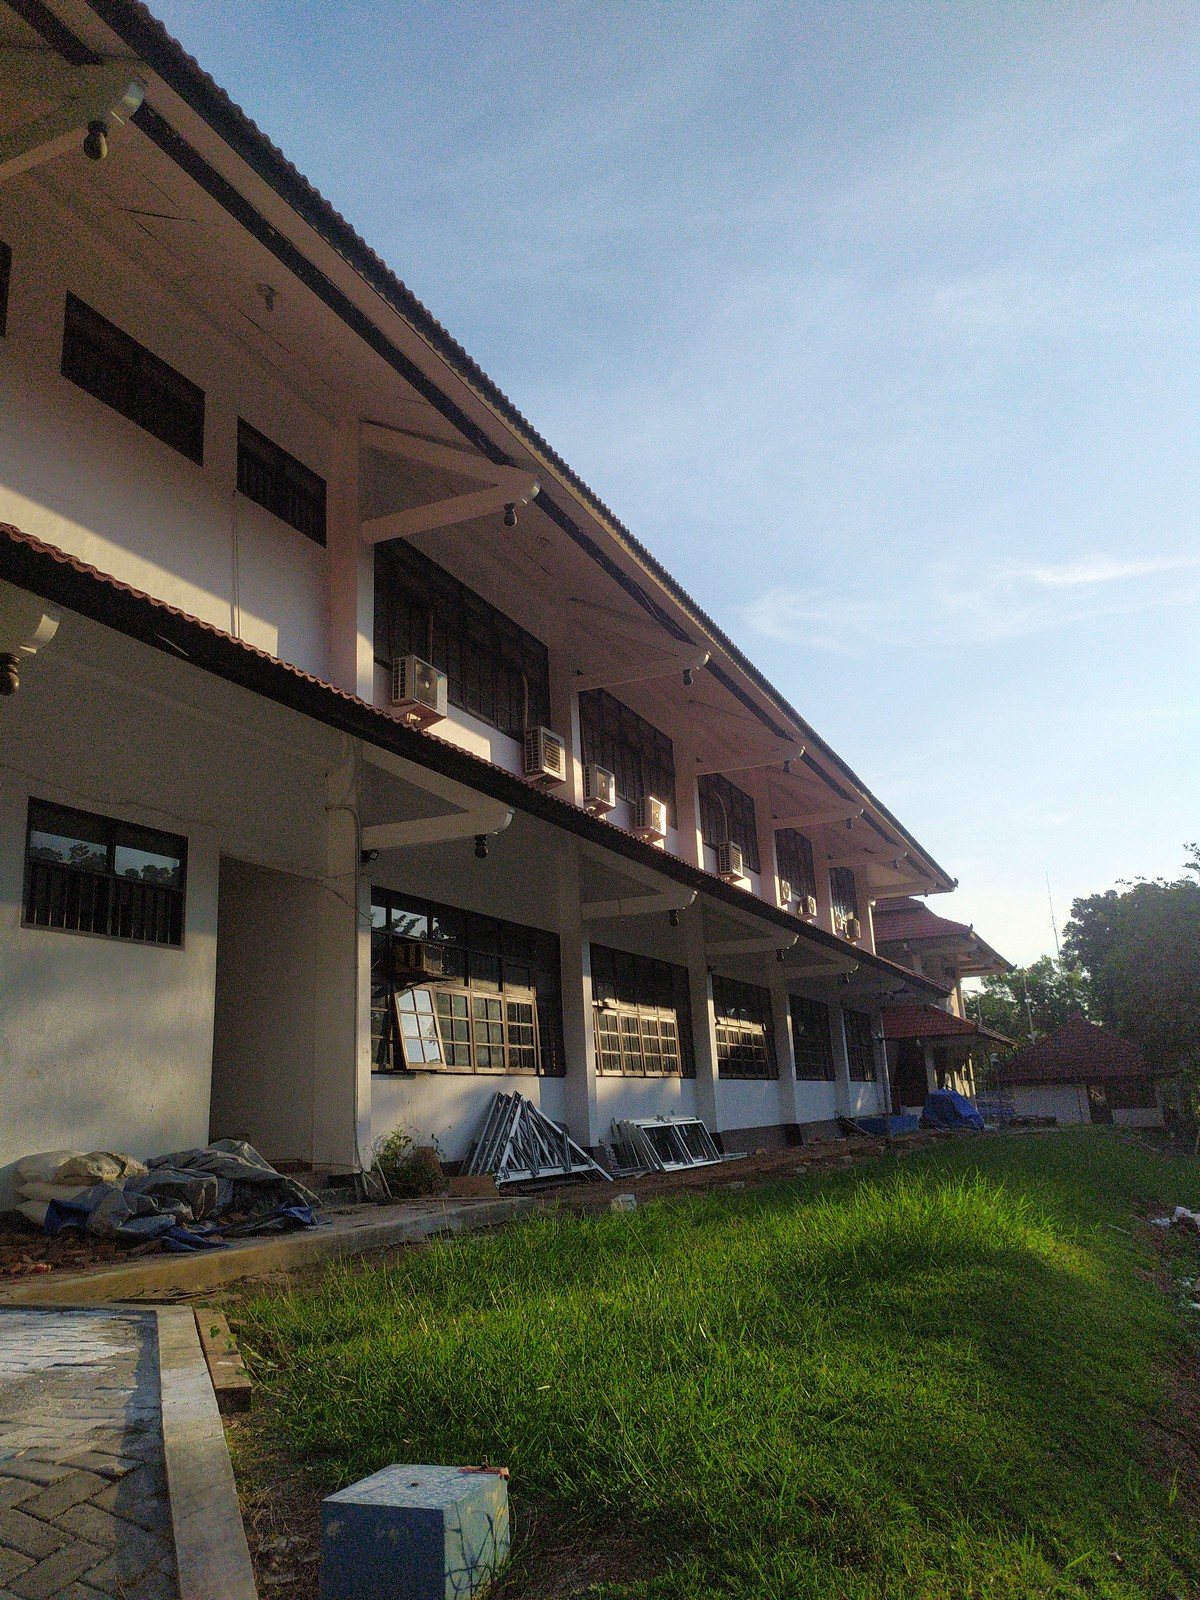concrete beam: (349, 486, 494, 551), (350, 810, 473, 863), (565, 658, 668, 700), (575, 891, 666, 927)
concrete column: (310, 762, 382, 1177), (320, 414, 384, 711), (551, 848, 608, 1153), (679, 905, 736, 1139), (545, 591, 592, 813), (676, 700, 710, 867)
